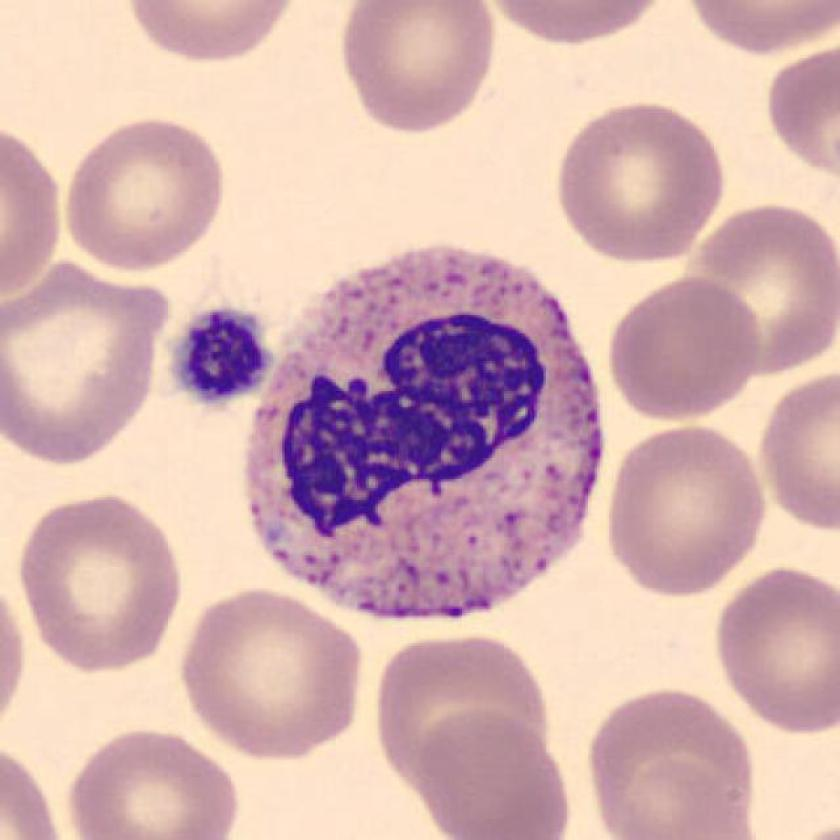neutrophil: (249, 249, 603, 622)
